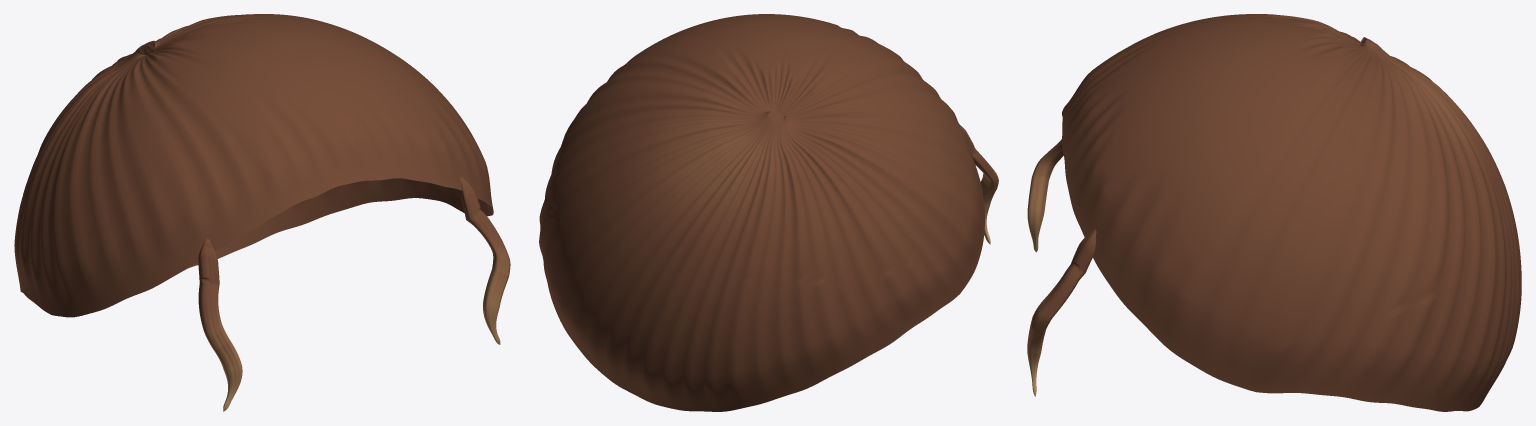
Rendered from ponytail-beanie-fringe-ombre.glb.
3 renders of one model, left to right at view 1: azimuth 30°, elevation 25°; view 2: azimuth 150°, elevation 25°; view 3: azimuth 270°, elevation 25°, orthographic. The views are drawn at different scales.
Visible parts, largest first — view 1: 226 hair / Hair / crisp pulled roots220.002, 226 hair / Hair / sculpted front locks222.002; view 2: 226 hair / Hair / crisp pulled roots220.002, 226 hair / Hair / sculpted front locks222.002; view 3: 226 hair / Hair / crisp pulled roots220.002, 226 hair / Hair / sculpted front locks222.002.
Boxes of the visible parts, left/top/right/bottom form: 226 hair / Hair / crisp pulled roots220.002: left=14, top=14, right=493, bottom=317; 226 hair / Hair / sculpted front locks222.002: left=198, top=176, right=510, bottom=411; 226 hair / Hair / crisp pulled roots220.002: left=539, top=14, right=984, bottom=411; 226 hair / Hair / sculpted front locks222.002: left=959, top=124, right=998, bottom=244; 226 hair / Hair / crisp pulled roots220.002: left=1061, top=14, right=1521, bottom=411; 226 hair / Hair / sculpted front locks222.002: left=1027, top=139, right=1096, bottom=396.
Bounding box in the file's own units: 0.7726 × 0.5697 × 0.7364.
2 materials, 2 textured.
